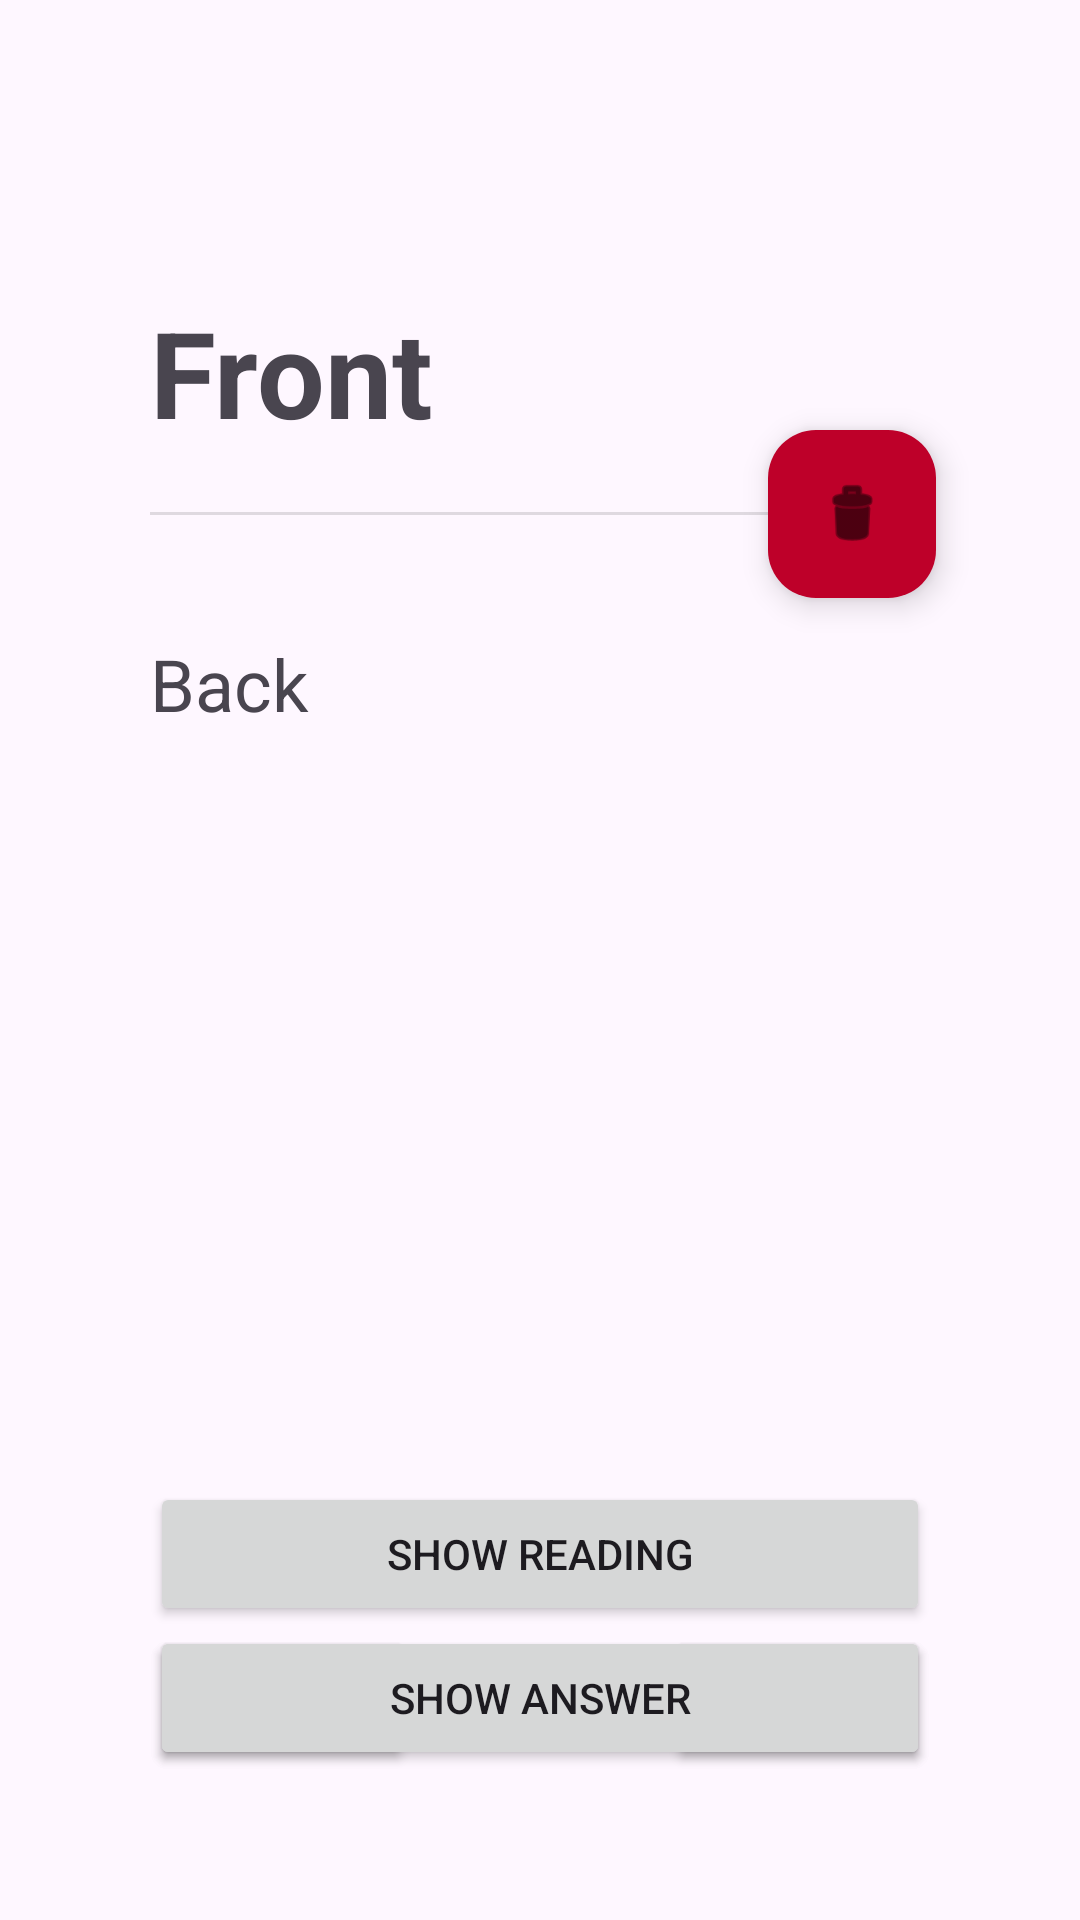

Icons on this 1080w x 1920h Android screen, each with the point to tap as point (x, y):
delete: point (852, 514)
